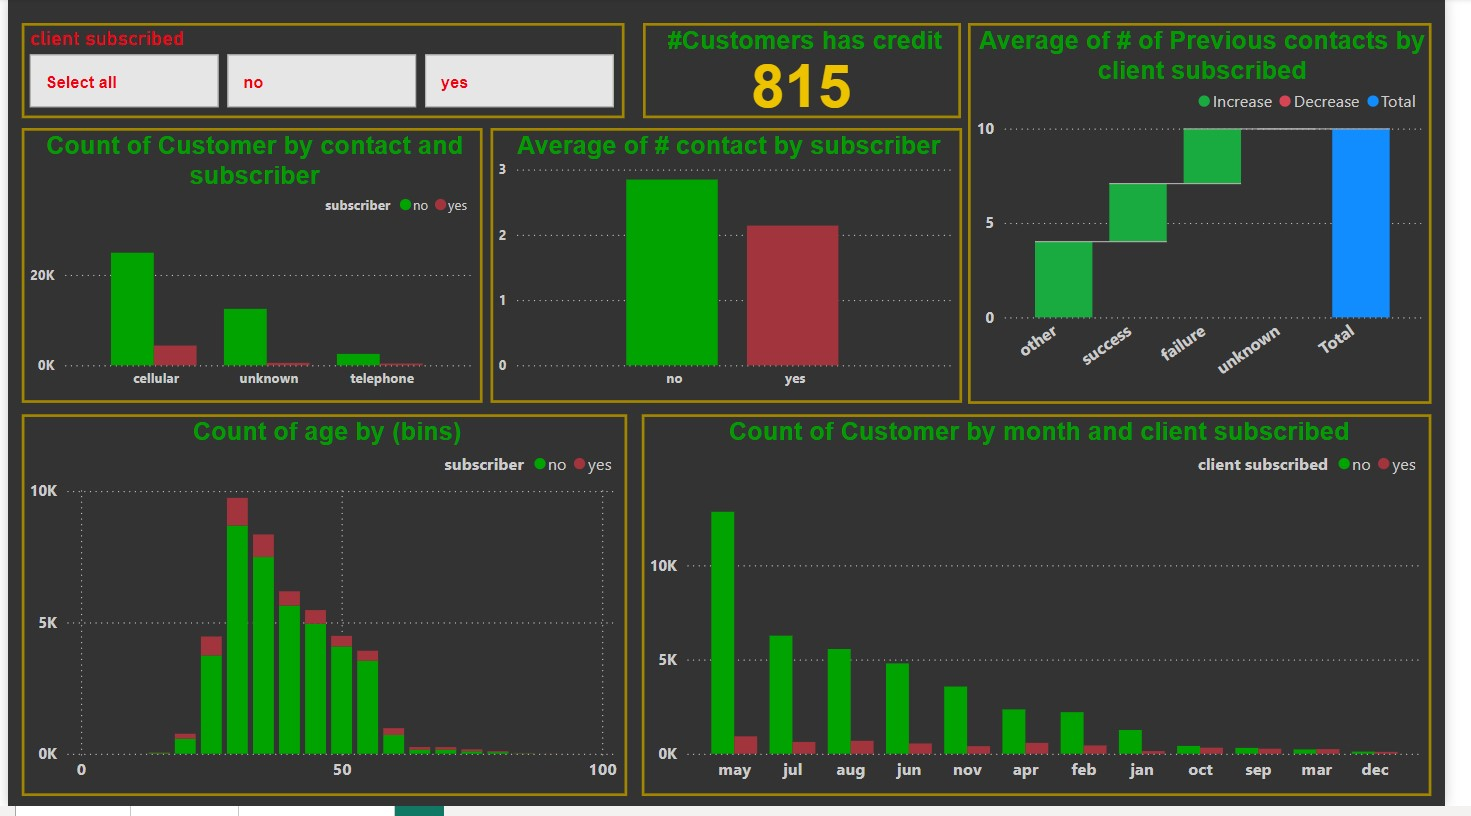

The dashboard page shown, as its layout file describes it:
{"tool":"powerbi","page":{"name":"Overview","canvas":[1280,720],"ordinal":0},"visuals":[{"type":"clusteredColumnChart","title":"Count of Customer by contact and subscriber","fields":{"Category":["Banking data.contact"],"Y":["CountNonNull(Banking data.y)"],"Series":["Banking data.y"]},"box":[12.1,115.8,410.2,244.9],"z":0},{"type":"advancedSlicerVisual","title":"client subscribed","fields":{"Values":["Banking data.y"]},"box":[12.1,21.7,536.9,84.5],"z":1000},{"type":"clusteredColumnChart","fields":{"Category":["Banking data.y"],"Y":["Avg(Banking data.campaign)"]},"box":[429.5,115.8,419.8,244.9],"z":2000},{"type":"waterfallChart","title":"Average of # of Previous contacts by client subscribed","fields":{"Y":["Avg(Banking data.previous)"],"Category":["Banking data.poutcome"]},"box":[855.4,21.7,412.6,339],"z":3000},{"type":"columnChart","title":"Count of age by (bins)","fields":{"Category":["Banking data.age (bins)"],"Y":["CountNonNull(Banking data.age)"],"Series":["Banking data.y"]},"box":[12.1,370.4,539.3,340.2],"z":4000},{"type":"card","title":"#Customers has credit","fields":{"Values":["Banking data.#Customers has credit"]},"box":[565.8,21.7,283.5,85],"z":5000},{"type":"clusteredColumnChart","fields":{"Series":["Banking data.y"],"Category":["Banking data.month"],"Y":["CountNonNull(Banking data.y)"]},"box":[564.6,370.4,703.4,340.2],"z":6000}]}

Visuals, with their boxes in screenshot pixels (x1, y1, x2, y2), scaled from the page's 1280x720 canvas onto the 1471x816 screenshot:
"Count of Customer by contact and subscriber" clusteredColumnChart: region(14, 131, 485, 409)
"client subscribed" advancedSlicerVisual: region(14, 25, 631, 120)
clusteredColumnChart - Banking data.y x Avg(Banking data.campaign): region(494, 131, 976, 409)
"Average of # of Previous contacts by client subscribed" waterfallChart: region(983, 25, 1457, 409)
"Count of age by (bins)" columnChart: region(14, 420, 634, 805)
"#Customers has credit" card: region(650, 25, 976, 121)
clusteredColumnChart - Banking data.y x Banking data.month: region(649, 420, 1457, 805)
